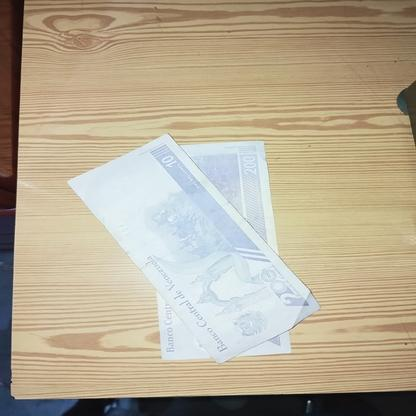ten-back-vef: (66, 132, 320, 363)
two_hundred-back-vef: (156, 141, 291, 360)
